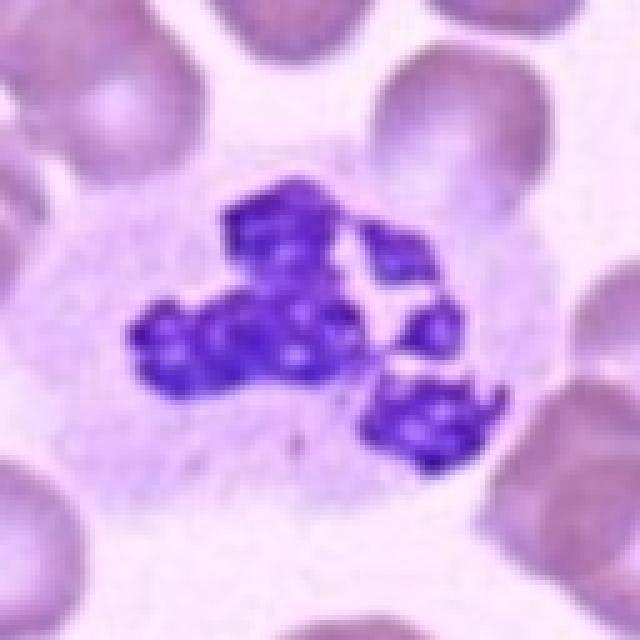neutro: (43, 100, 584, 526)
